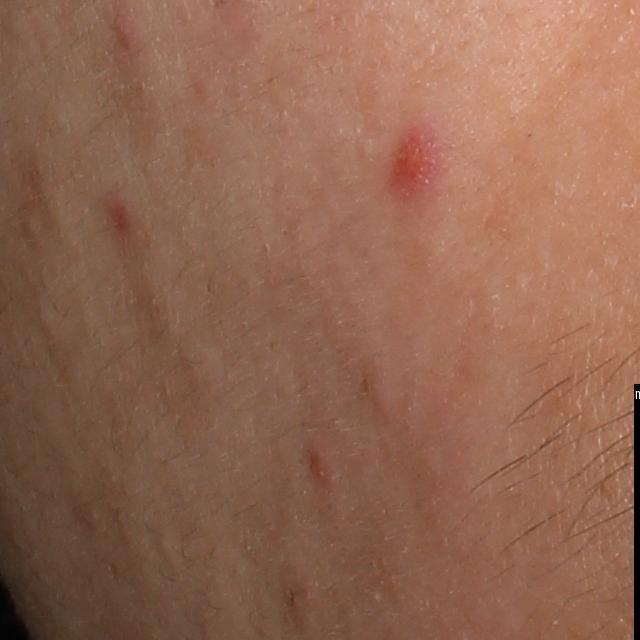comedo: (20, 215, 44, 242)
papule: (385, 126, 439, 196), (93, 193, 143, 243), (301, 441, 337, 493), (105, 12, 141, 60)
